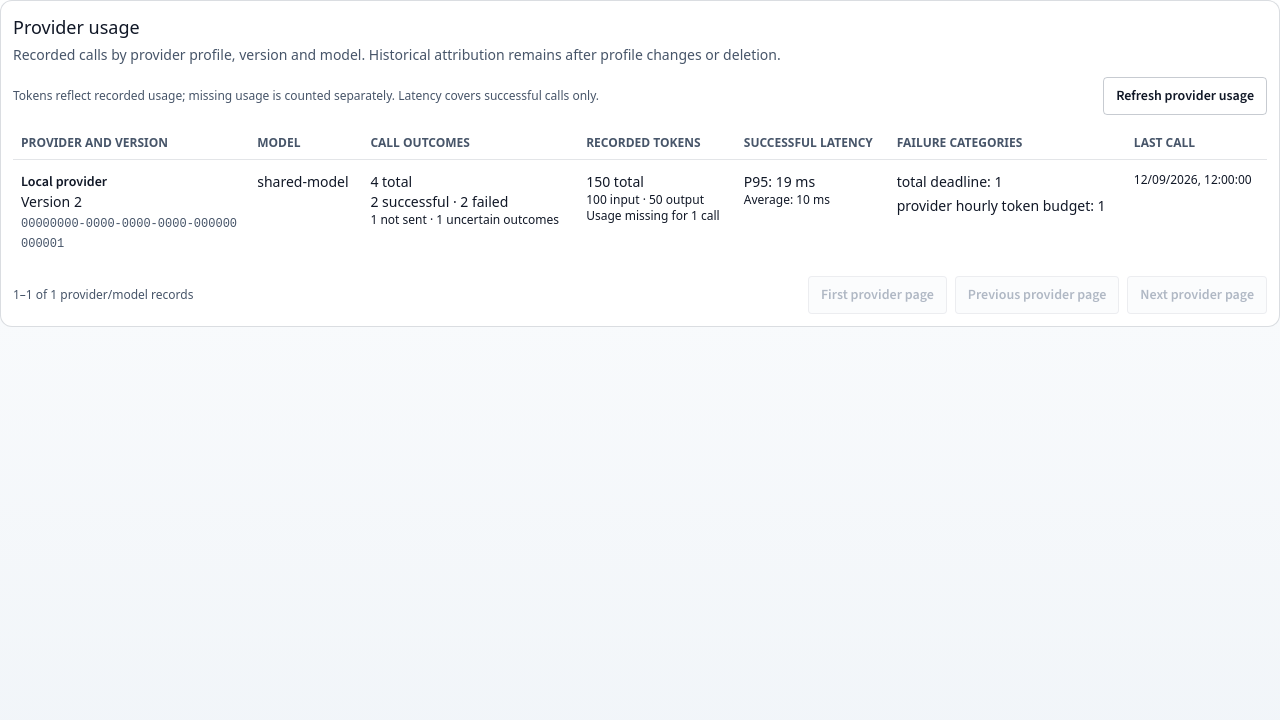
it: provider usage with a real QueryClient › keeps a failed refresh explicit and lets the user retry without removing cached records
The image size is (1280, 720).
Click the button "Refresh provider usage". click: coordinates (1185, 96)
box: [1103,77,1267,115]
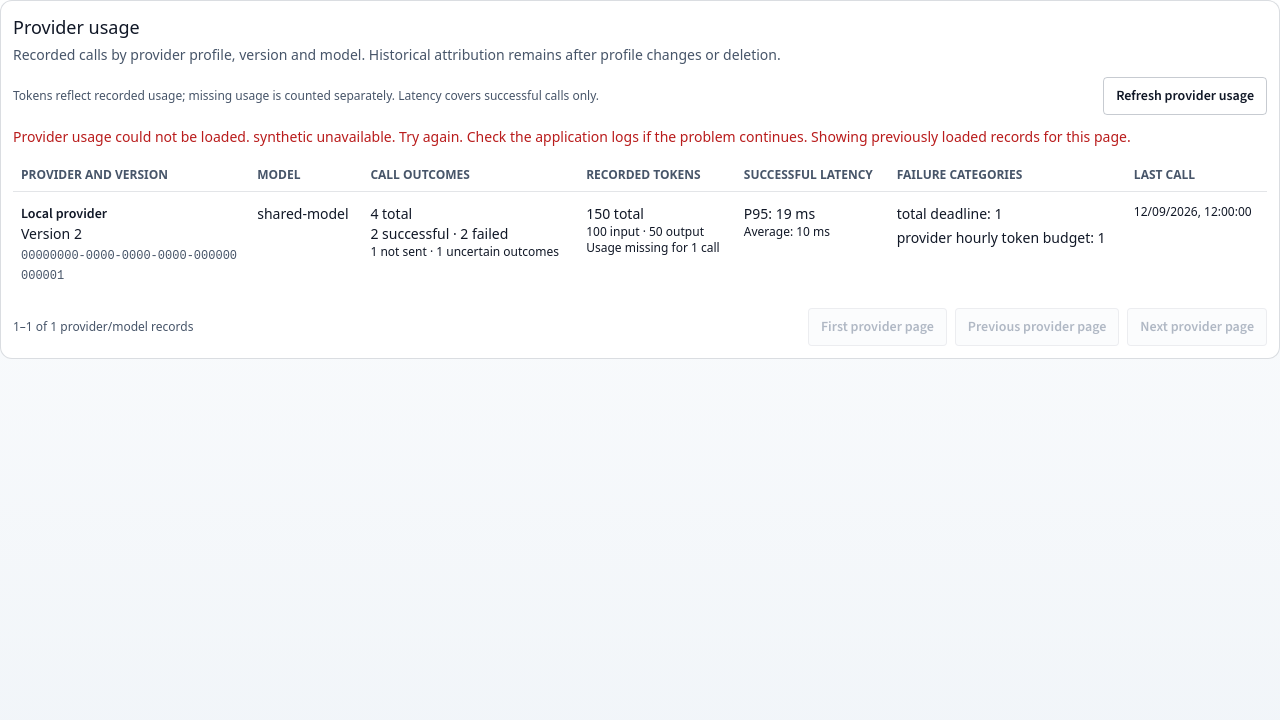
Check: the text "Local provider" is shown, box [21,204,107,224]
Check: the 1st message shows "Showing previously loaded records", box [808,127,1131,146]
Click the button "Refresh provider usage". click: coordinates (1185, 96)
box: [1103,77,1267,115]
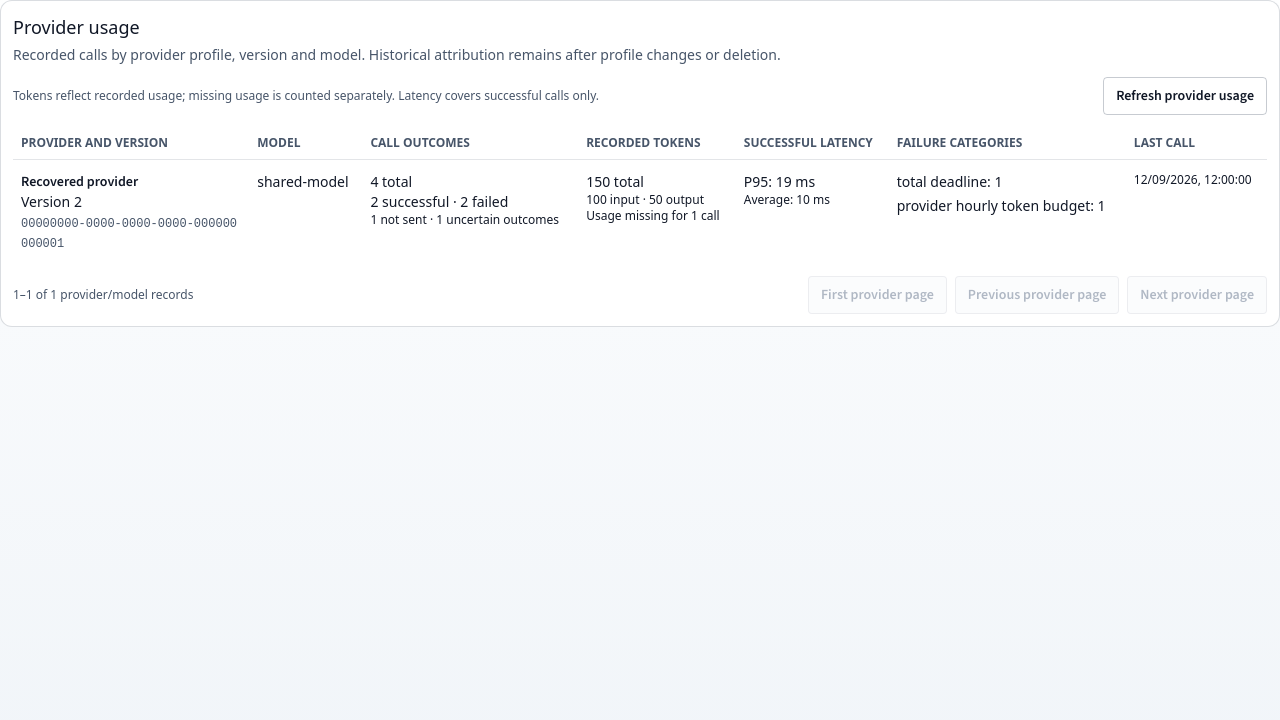
Check: the message "Provider usage could not be loaded. synthetic unavailable. Try again. Check the" is gone
Check: the text "Recovered provider" is shown, box [21,172,138,192]
